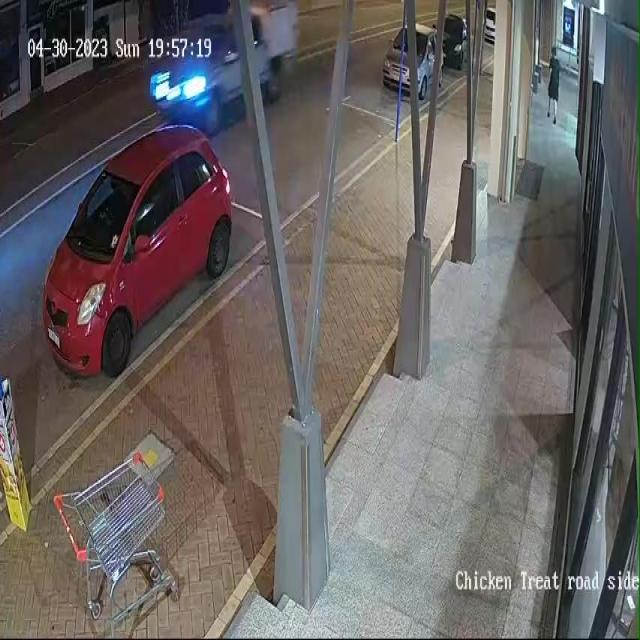Car: (26, 121, 242, 386), (142, 14, 281, 143), (376, 12, 443, 104), (429, 2, 476, 76), (476, 0, 504, 45)
